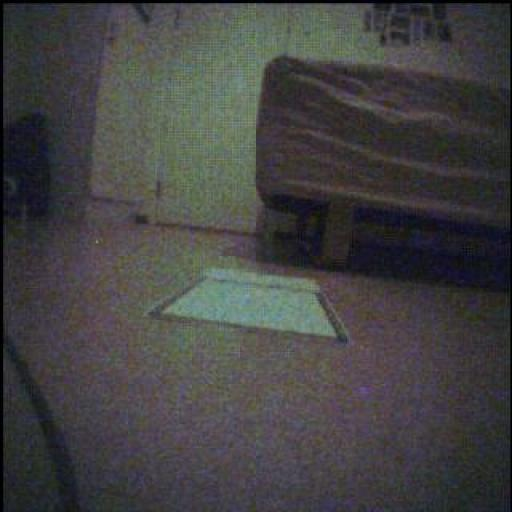pad: (151, 270, 350, 343)
